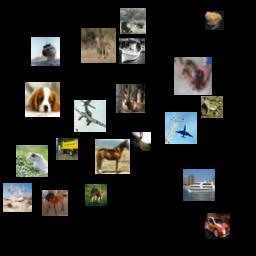airplane: (165, 112, 197, 144), (74, 100, 106, 132)
automobile: (204, 213, 230, 239)
cat: (174, 57, 212, 95), (16, 145, 48, 177)
deer: (81, 28, 116, 63), (116, 84, 145, 113), (3, 183, 32, 212), (120, 8, 146, 34), (85, 184, 107, 206)
dog: (25, 82, 60, 117), (132, 132, 151, 151)
frog: (201, 96, 223, 118), (205, 11, 224, 30)
ship: (183, 169, 215, 201), (31, 37, 60, 66), (119, 38, 145, 64)
truck: (56, 138, 78, 160)
